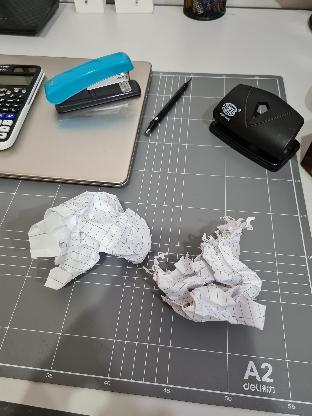Paper: (156, 220, 272, 326), (27, 191, 152, 289)
